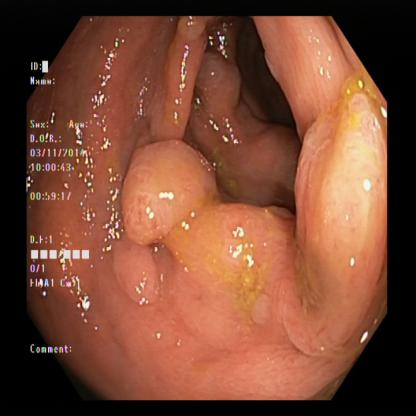Labels: (27, 61, 108, 360)
Polyps: (126, 130, 288, 338), (294, 108, 384, 348), (168, 21, 264, 130)
